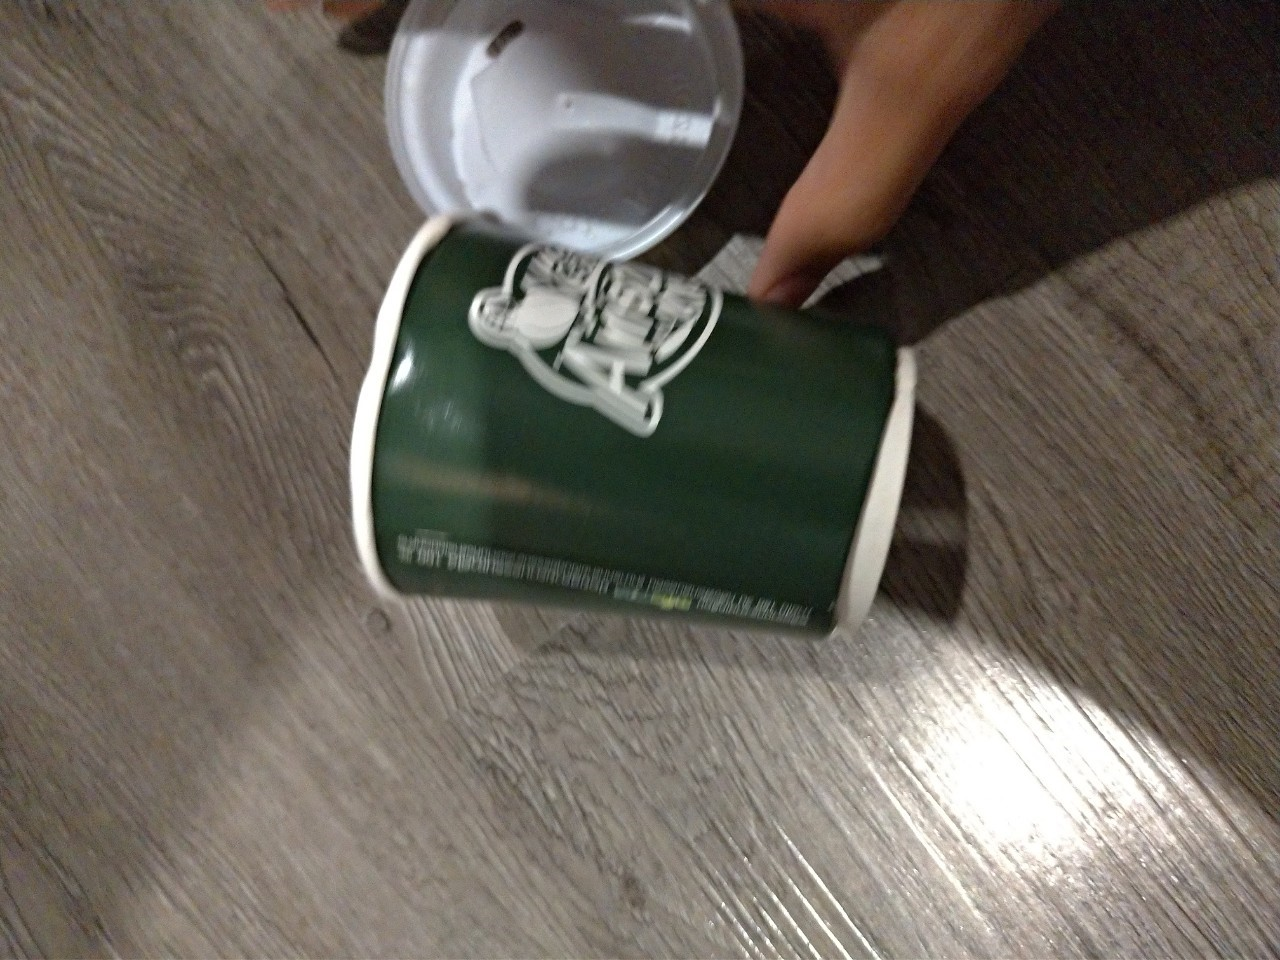PaperCup: (351, 209, 920, 642)
